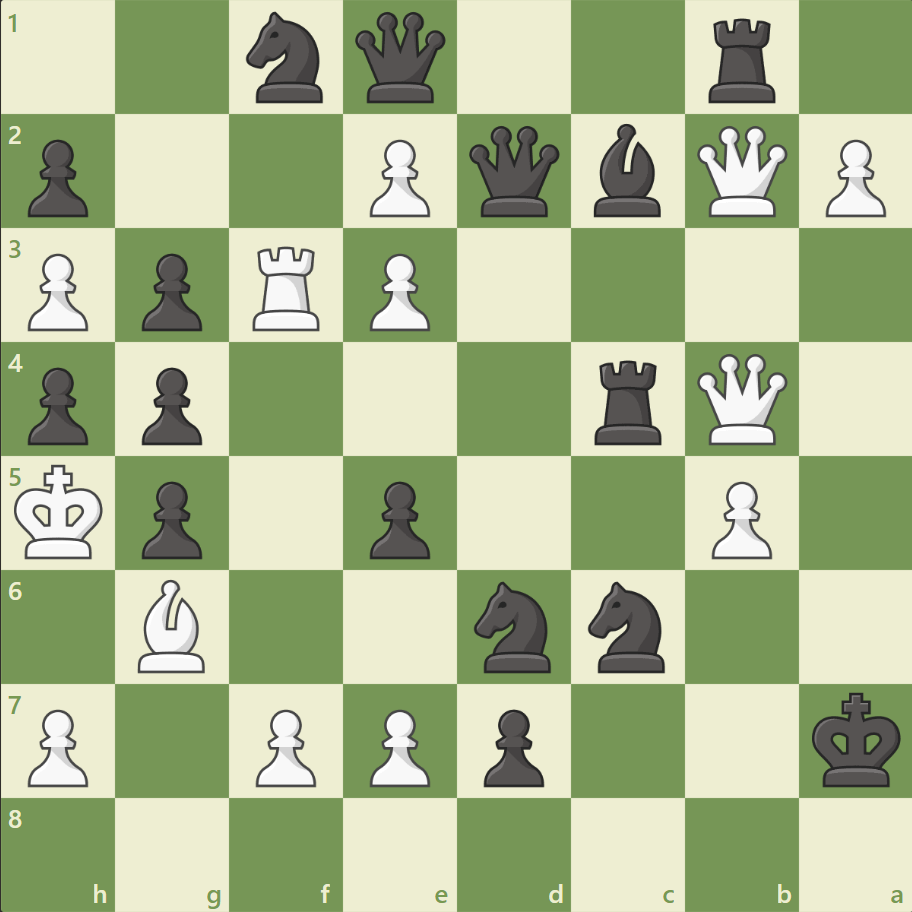B: (131, 574, 215, 676)
K: (11, 458, 111, 566)
P: (247, 700, 322, 791), (20, 700, 95, 791), (701, 473, 776, 564), (20, 246, 95, 337), (361, 700, 435, 791), (361, 246, 435, 337), (815, 132, 889, 223), (361, 132, 435, 223)
Q: (691, 349, 790, 449), (691, 122, 790, 222)
R: (246, 239, 329, 336)
b: (585, 120, 669, 222)
k: (806, 685, 906, 793)
n: (238, 7, 335, 110), (579, 575, 676, 677), (465, 575, 562, 677)
p: (474, 700, 549, 791), (133, 473, 208, 564), (133, 359, 208, 450), (20, 359, 95, 450), (133, 246, 208, 337), (20, 132, 95, 223), (361, 473, 435, 564)
q: (464, 122, 563, 222), (351, 9, 450, 108)
r: (587, 352, 670, 449), (700, 12, 783, 109)
